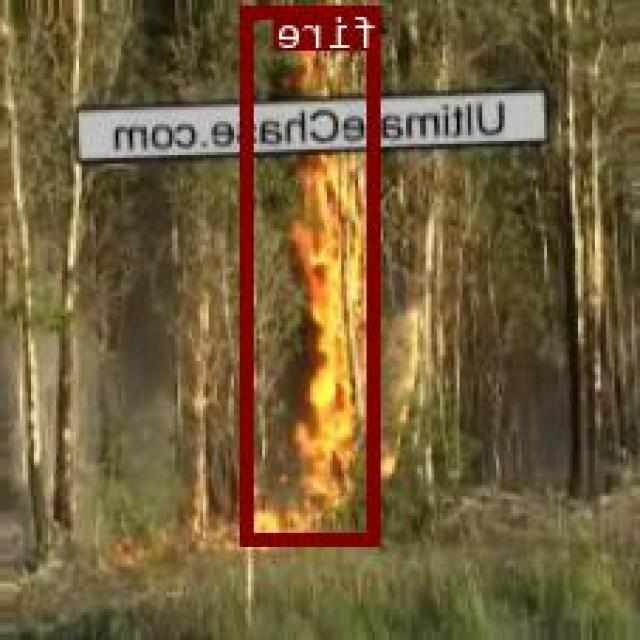fire: (245, 3, 381, 543)
